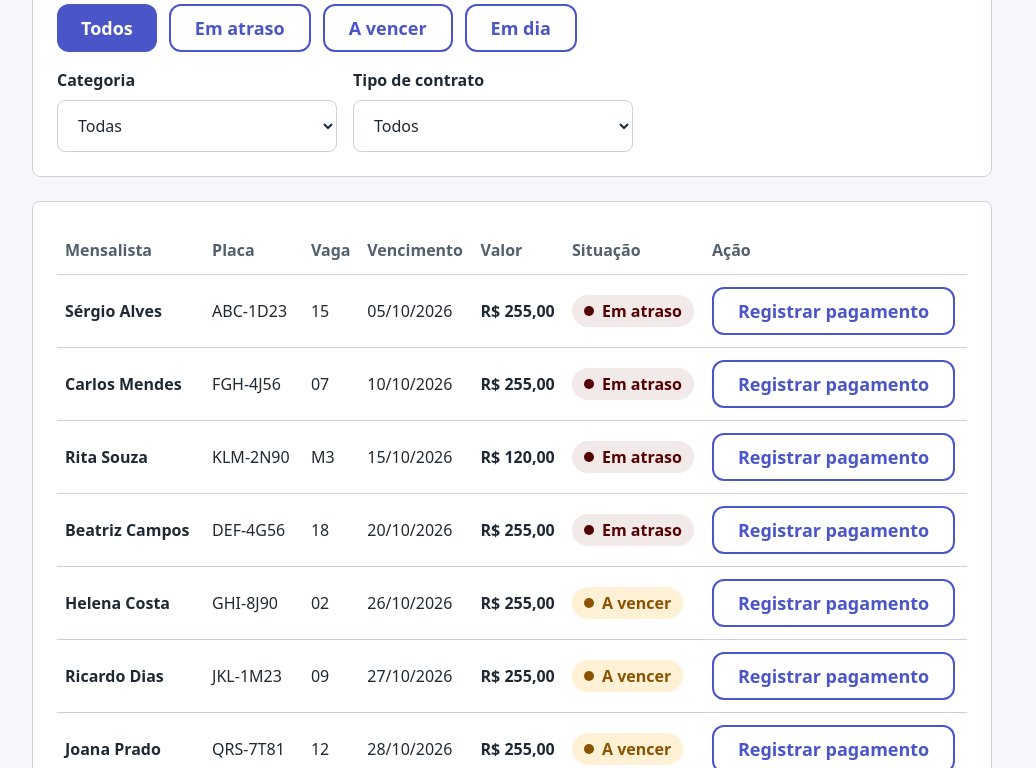
it: aba Vencimentos › "Registrar pagamento" leva a Recebimentos com o contrato escolhido
This screenshot has width=1036, height=768.
(page scrolled)
Expected: the text "Carlos Mendes" is shown, top-left (57, 348), bottom-right (204, 420)
Click the link with aria-label "Registrar pagamento de " at (834, 384), box top-left (712, 360), bottom-right (955, 408)
(page scrolled)
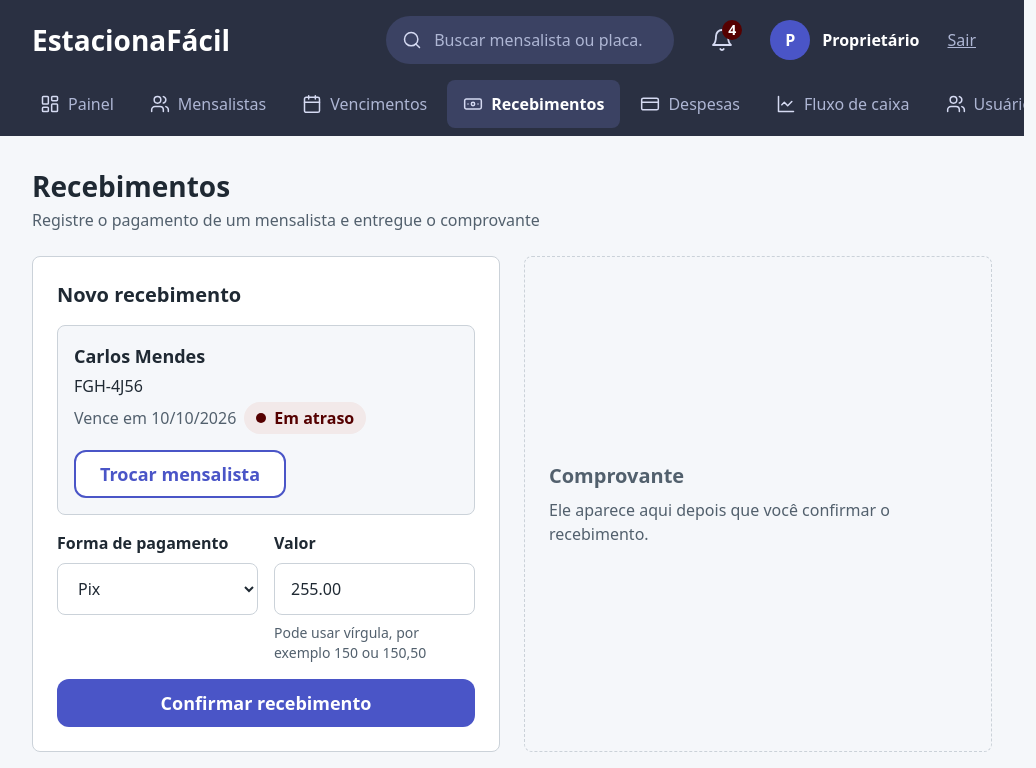
Expected: the heading "Recebimentos" is shown, top-left (32, 167), bottom-right (230, 205)
